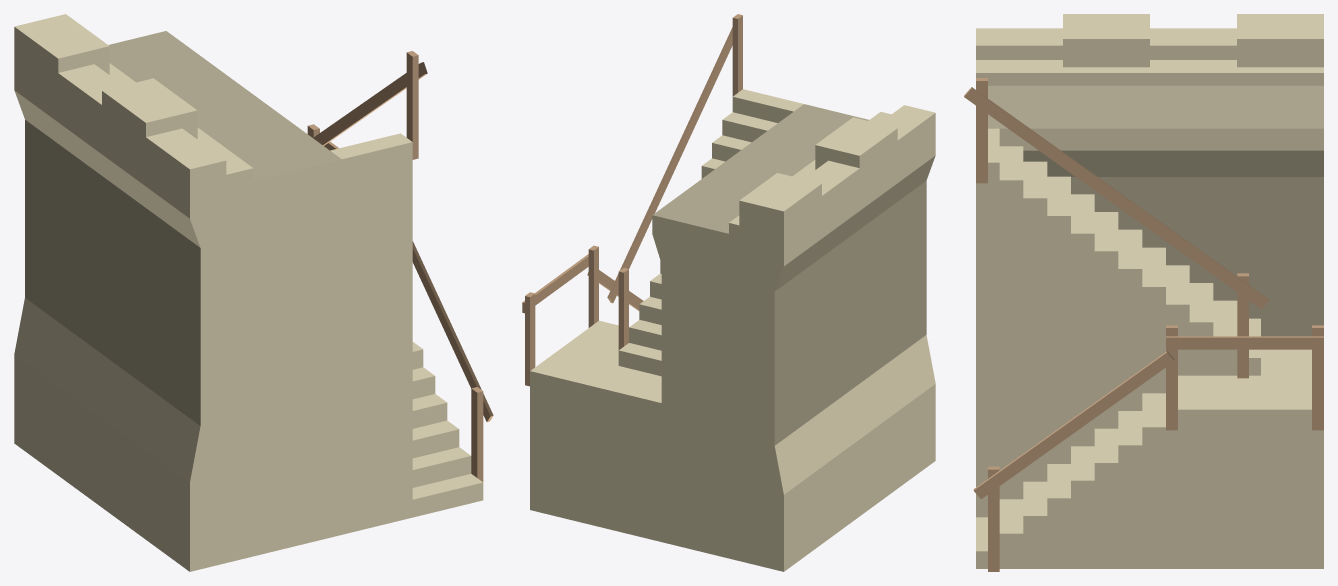
The model's file is wallNarrowStairsFence.obj.
3 views of the same model, side by side, from view 1: azimuth 30°, elevation 25°; view 2: azimuth 150°, elevation 25°; view 3: azimuth 270°, elevation 25° (orthographic). The views are drawn at different scales.
Visible parts, largest first — view 1: wallNarrowStairsFence, rail 13; view 2: wallNarrowStairsFence, rail 13; view 3: wallNarrowStairsFence, rail 13.
Part boxes in pixels (x1,y1,x2,y2): wallNarrowStairsFence: [14, 14, 483, 571]; rail 13: [307, 51, 493, 481]; wallNarrowStairsFence: [530, 89, 935, 571]; rail 13: [522, 14, 742, 386]; wallNarrowStairsFence: [976, 14, 1323, 568]; rail 13: [964, 78, 1323, 571].
Bounding box in the file's own units: 9.95 × 14.48 × 10.34.
